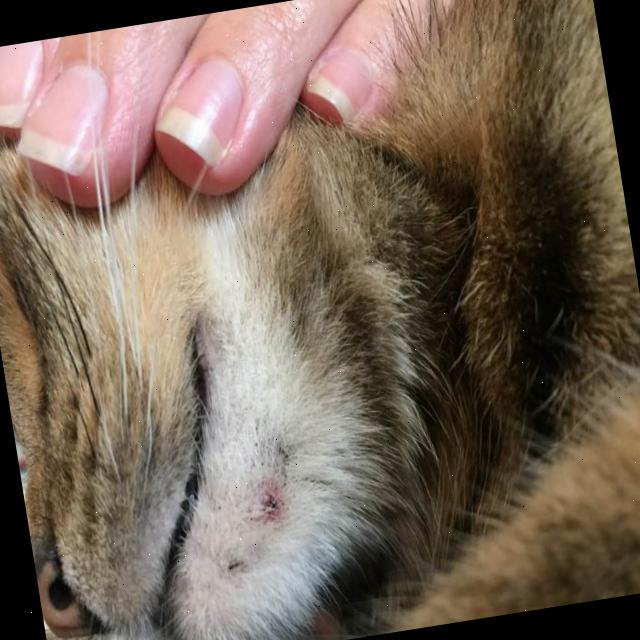cat-acne: (248, 481, 294, 534)
